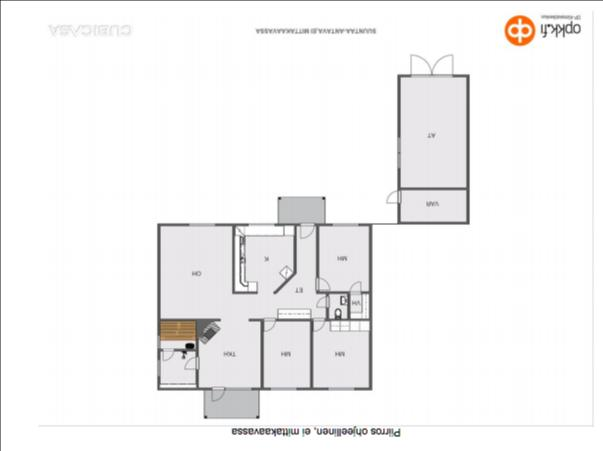door: (406, 51, 432, 79), (432, 52, 455, 80), (311, 276, 332, 295), (207, 384, 228, 401), (182, 354, 203, 370), (382, 188, 403, 204), (296, 222, 316, 238), (262, 315, 278, 335), (310, 316, 328, 332), (348, 278, 362, 296), (160, 346, 174, 362), (316, 295, 330, 310)
window: (245, 218, 277, 229), (328, 218, 362, 228), (185, 220, 218, 230), (394, 131, 402, 172), (265, 384, 300, 393), (325, 384, 356, 394), (223, 384, 254, 393), (153, 357, 162, 378), (155, 336, 161, 351)
